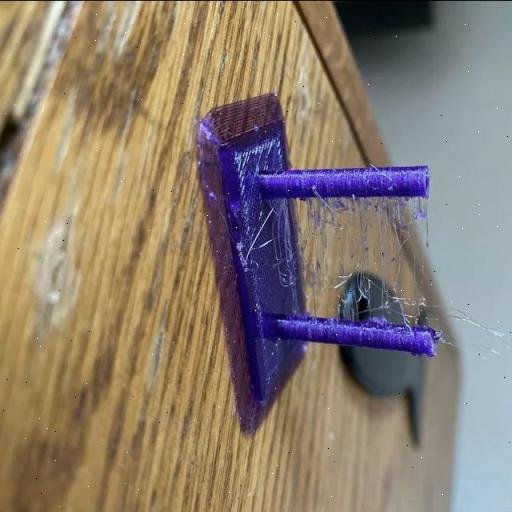stringing: (312, 192, 428, 246), (334, 271, 416, 322)
